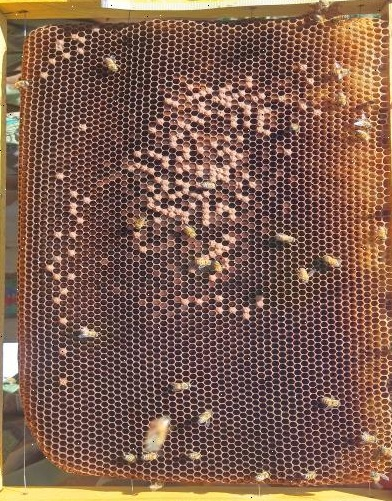cria: (126, 58, 319, 322), (54, 39, 64, 51), (74, 47, 84, 54), (68, 191, 77, 198), (54, 173, 64, 179), (66, 232, 76, 238), (38, 72, 47, 78), (78, 124, 87, 130), (81, 197, 90, 203), (74, 217, 83, 223), (51, 256, 60, 262), (62, 53, 70, 59), (45, 59, 54, 64)
